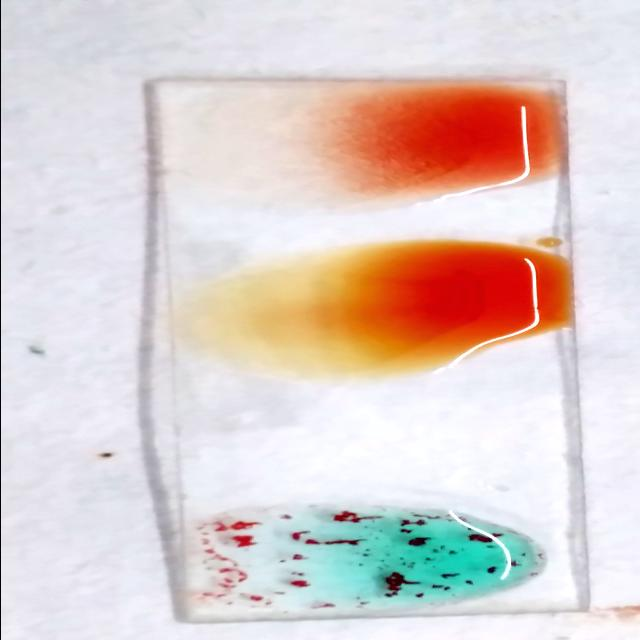A: (201, 502, 538, 612)
D: (272, 89, 548, 201)
